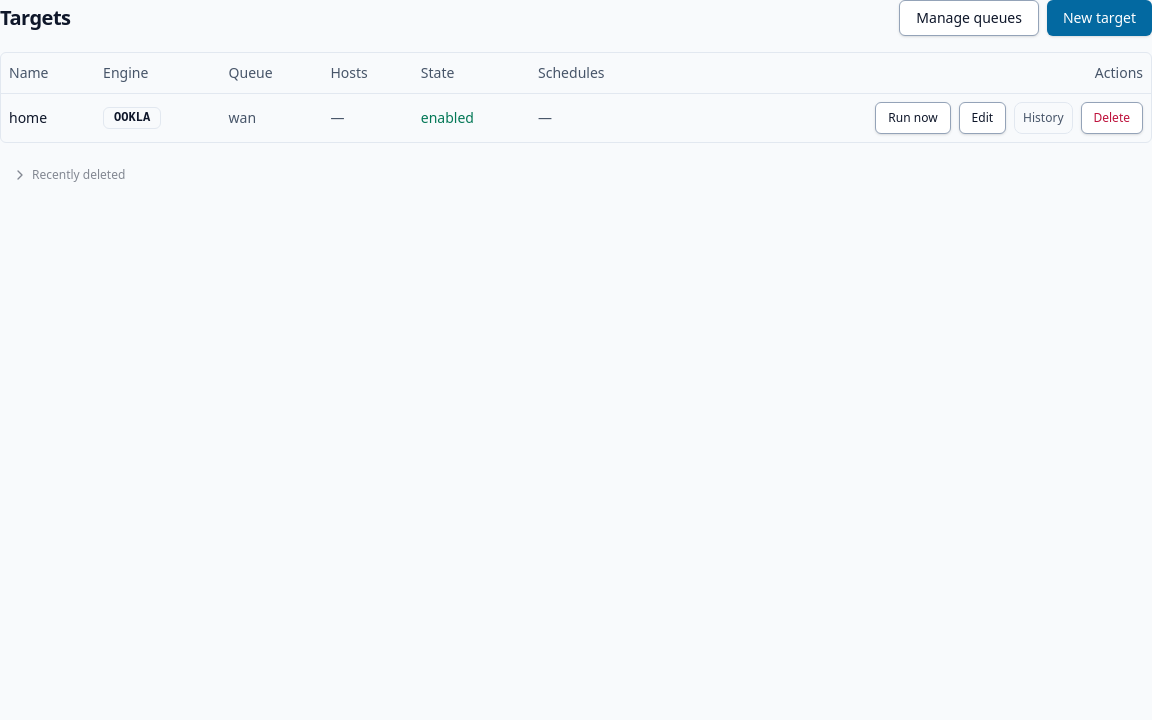
it: Targets page queues dialog › opens the queues dialog from the header button
Expected: the text "home" is shown, [1,93,95,142]
Click the button "Manage queues" at (969, 18), box [899,0,1039,36]
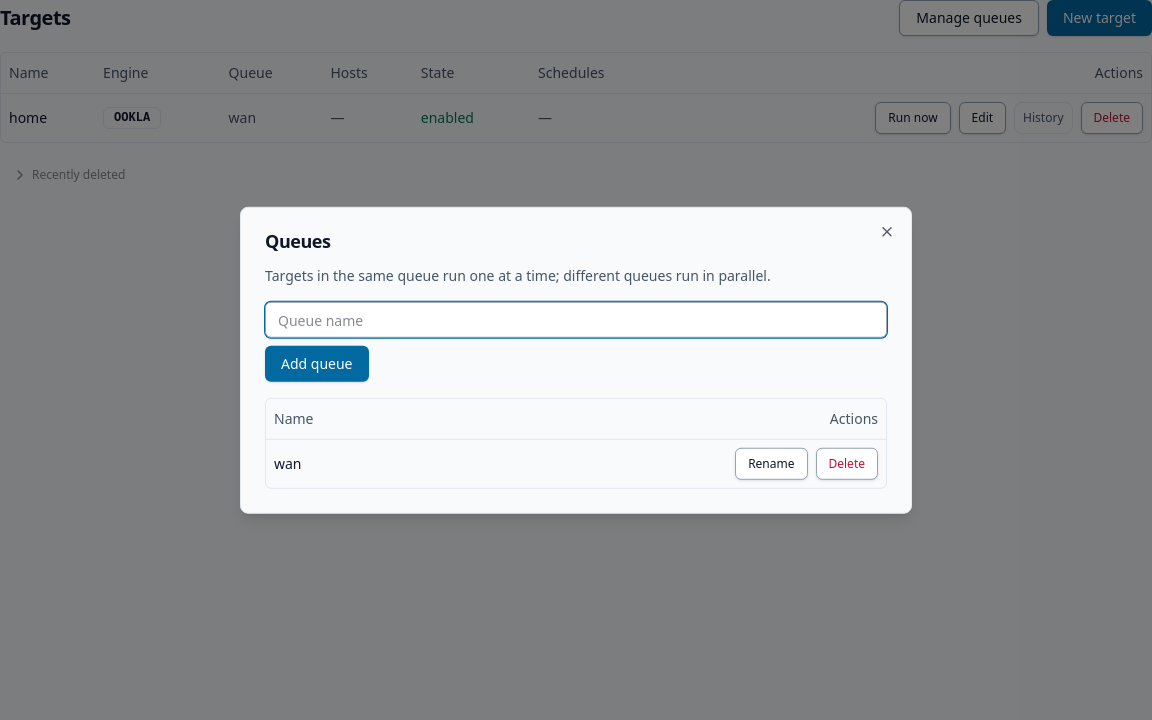
Now the heading "Queues" is shown, box [265,229,330,253]
Now the text "wan" is shown, box [266,439,426,487]
